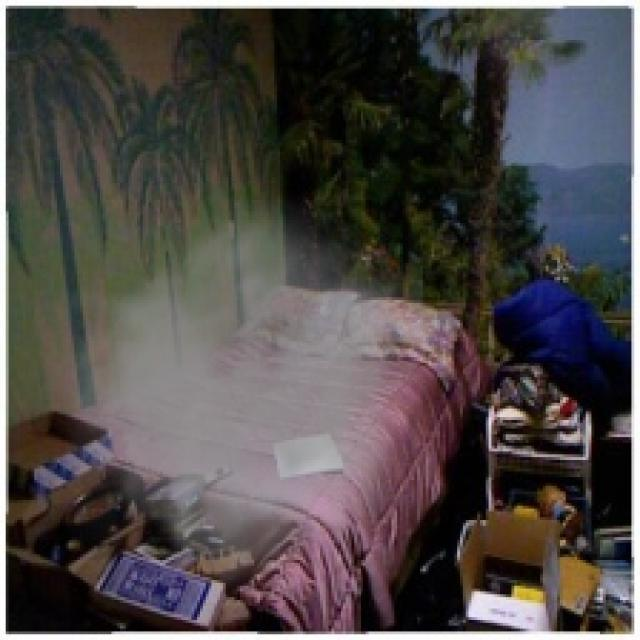Smoke: (26, 183, 423, 606)
